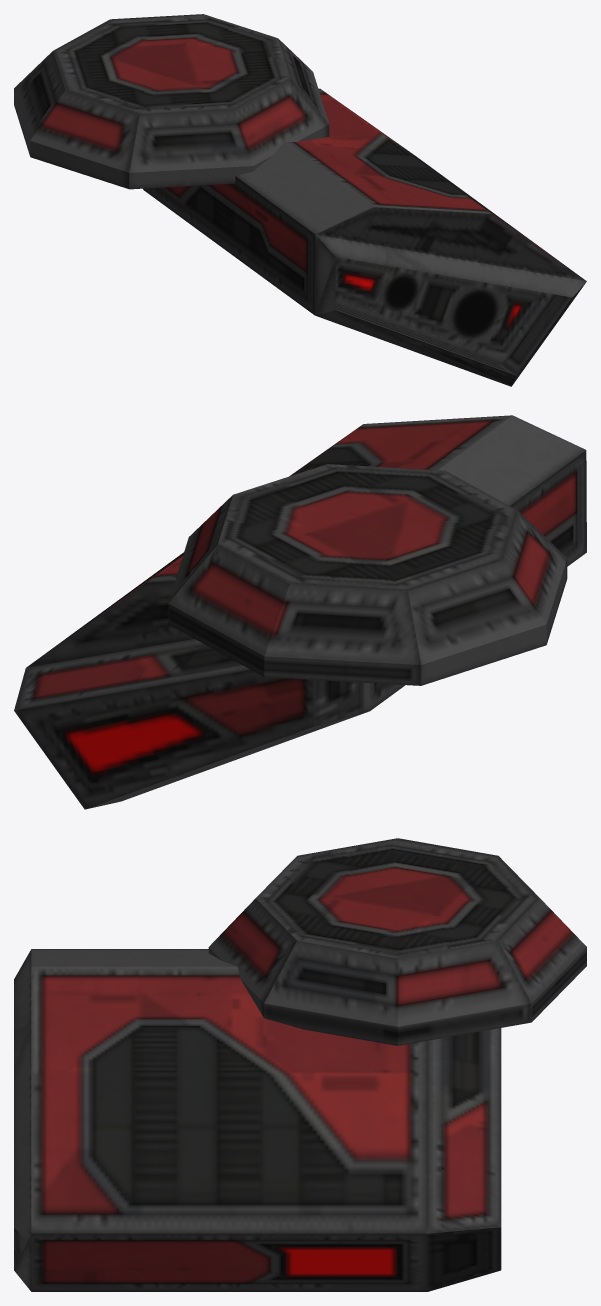
The model's file is BFP_MissileLauncher_01_Left.FBX.
The picture shows the model from 3 angles, top to bottom: view 1: azimuth 30°, elevation 25°; view 2: azimuth 150°, elevation 25°; view 3: azimuth 270°, elevation 25°; orthographic projection. The views are drawn at different scales.
Visible parts, largest first — view 1: BFP_MissileLauncher_01_Left; view 2: BFP_MissileLauncher_01_Left; view 3: BFP_MissileLauncher_01_Left.
Boxes of the visible parts, x1=… form: BFP_MissileLauncher_01_Left: x1=14, y1=14, x2=586, y2=386; BFP_MissileLauncher_01_Left: x1=14, y1=415, x2=586, y2=809; BFP_MissileLauncher_01_Left: x1=14, y1=838, x2=586, y2=1291.
Size of the model in its own units: 134 by 80.77 by 144.
Materials: 1 (1 with a texture image).
